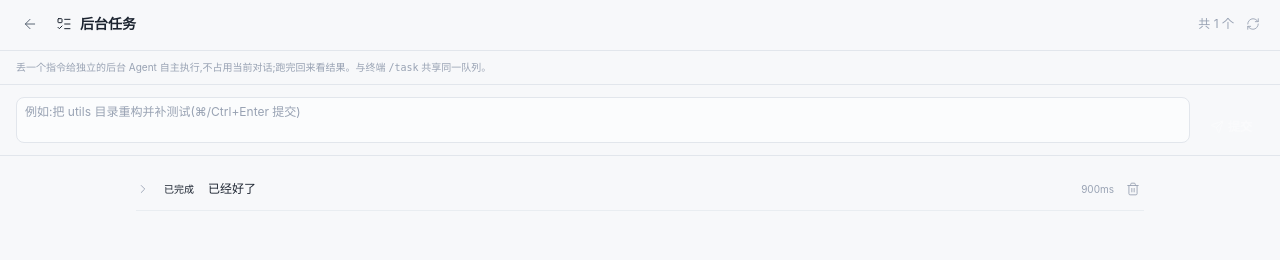
TaskPanel 删除按钮 › IPC 抛异常也要落到界面上,不能静默
Click the button with test id "task-delete" at x=1133, y=189, box [1122,178,1144,200]
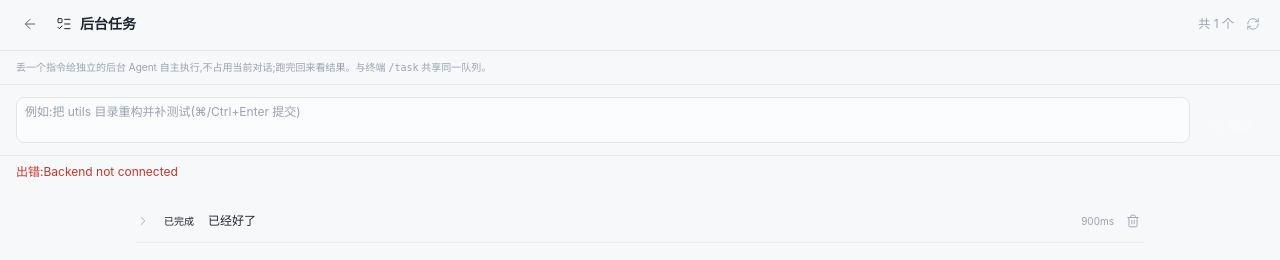
Check: the text "出错:Backend not connected" is shown, box [16,164,178,179]
